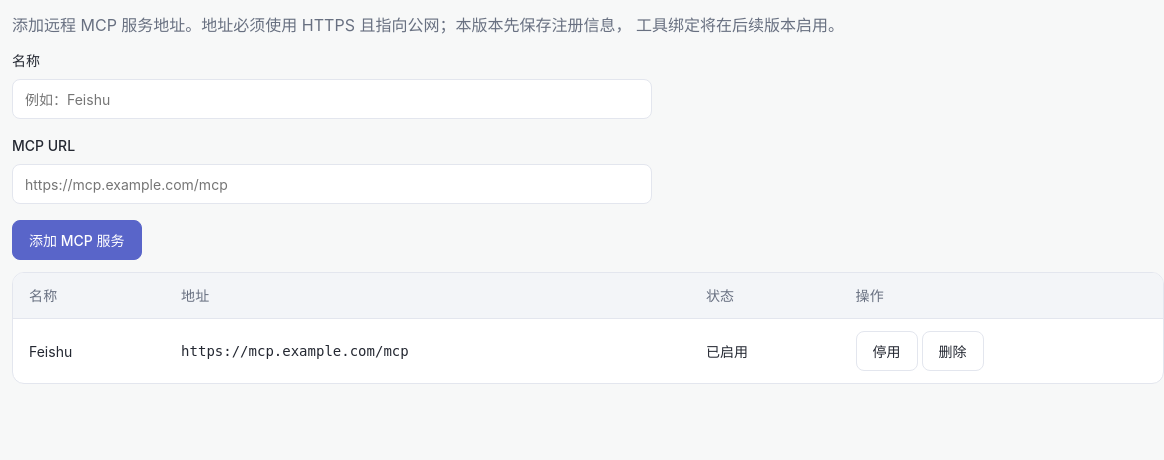
Test: McpServers › explains an unsafe URL
The width and height of the screenshot is (1164, 460).
Check: the text "Feishu" is shown, box [13, 319, 165, 383]
In the field labelled "名称": (332, 99) [12, 79, 652, 119], type "Bad"
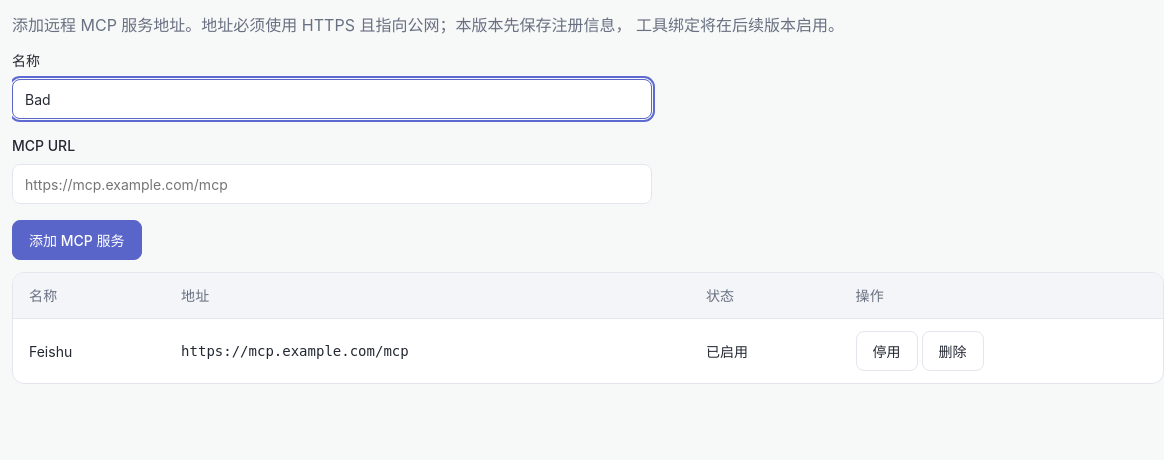
In the field labelled "MCP URL": (332, 184) [12, 164, 652, 204], type "https://127.0.0.1/mcp"
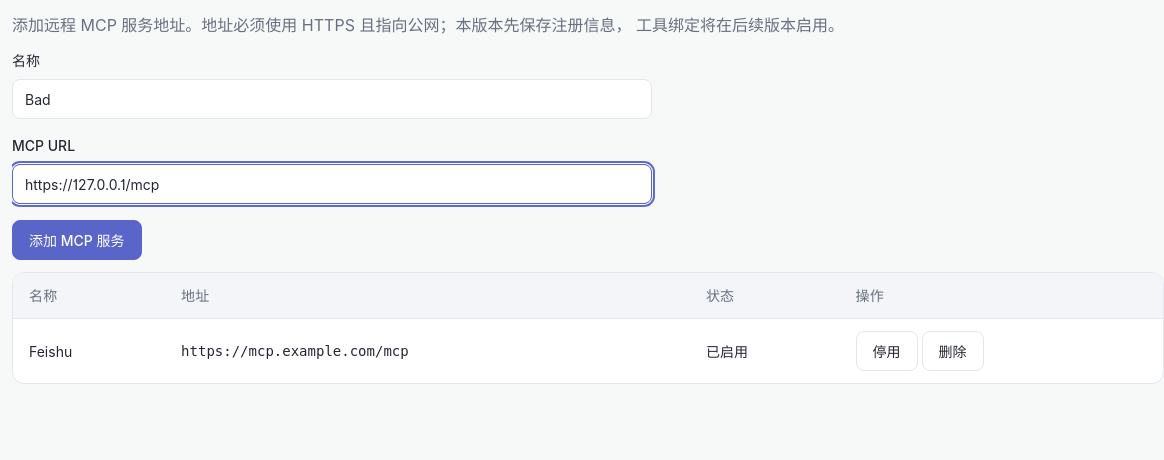
Click the button "添加 MCP 服务": click(77, 240) [12, 220, 142, 260]
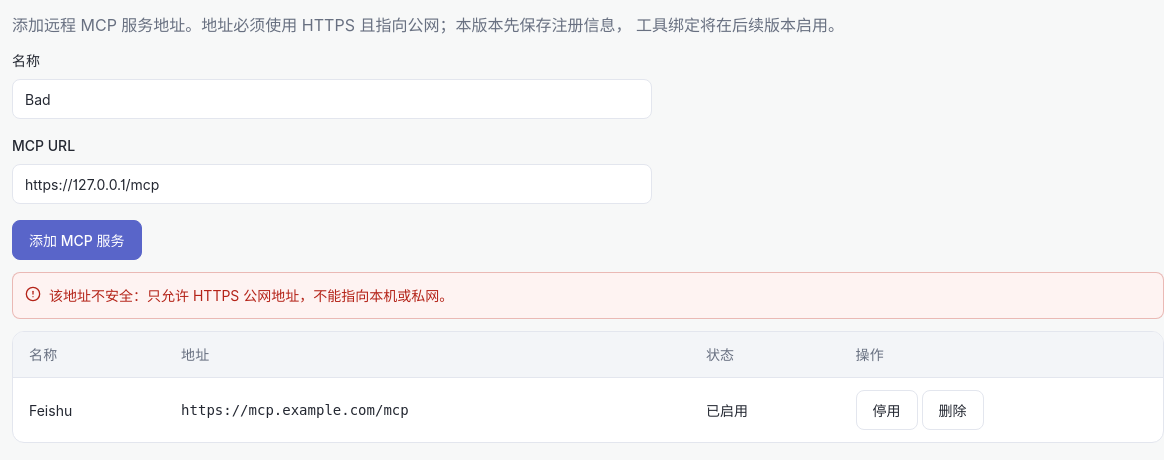
Check: the text "该地址不安全：只允许 HTTPS 公网地址，不能指向本机或私网。" is shown, box [49, 287, 453, 304]
